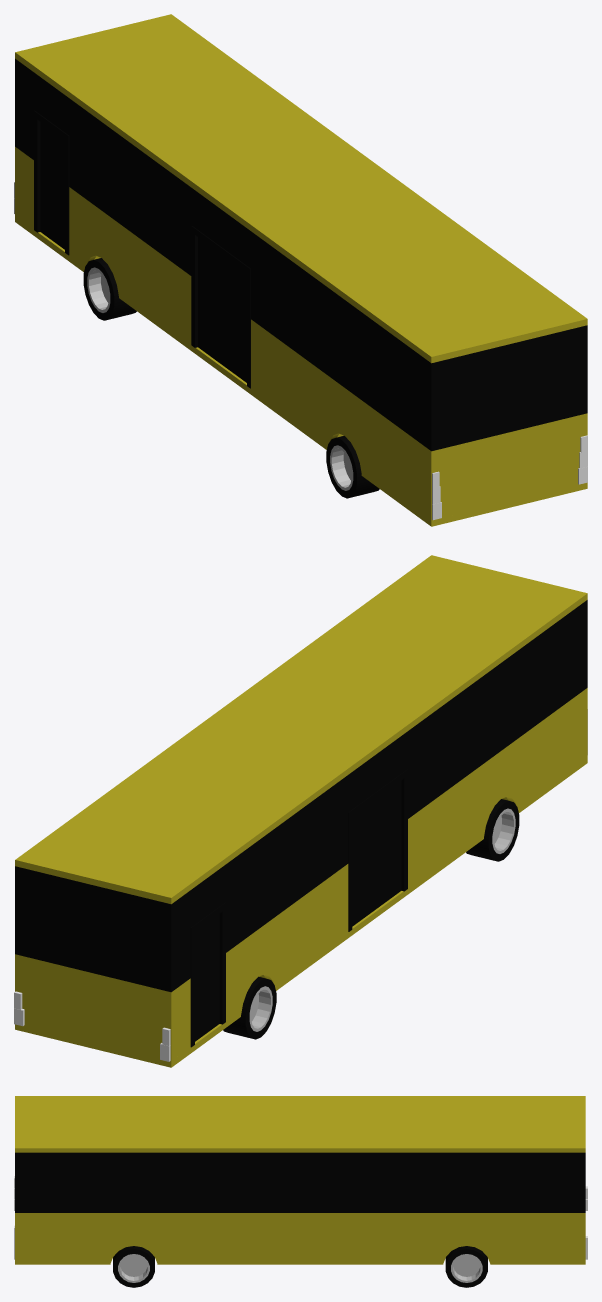
3 renders of one model, top to bottom at view 1: azimuth 30°, elevation 25°; view 2: azimuth 150°, elevation 25°; view 3: azimuth 270°, elevation 25°, orthographic. The views are drawn at different scales.
Visible parts, largest first — view 1: 車頂, 巴士底座, 車玻璃2, 車玻璃, 後門, 前門, 巴士輪胎001, 巴士輪胎003; view 2: 車頂, 巴士底座, 車玻璃2, 車玻璃, 後門, 前門, 巴士輪胎003, 巴士輪胎001; view 3: 車玻璃2, 車頂, 巴士底座, 巴士輪胎, 巴士輪胎002.
Part boxes in pixels (bbox=[...]): 車頂: bbox=[15, 14, 587, 363]; 巴士底座: bbox=[15, 147, 587, 526]; 車玻璃2: bbox=[15, 58, 587, 451]; 車玻璃: bbox=[35, 73, 250, 275]; 後門: bbox=[191, 226, 250, 388]; 前門: bbox=[34, 110, 69, 255]; 巴士輪胎001: bbox=[83, 258, 136, 320]; 巴士輪胎003: bbox=[326, 436, 379, 498]; 車頂: bbox=[15, 555, 587, 904]; 巴士底座: bbox=[15, 688, 587, 1067]; 車玻璃2: bbox=[15, 600, 587, 992]; 車玻璃: bbox=[191, 732, 406, 952]; 後門: bbox=[348, 769, 407, 931]; 前門: bbox=[190, 902, 225, 1047]; 巴士輪胎003: bbox=[466, 799, 519, 861]; 巴士輪胎001: bbox=[223, 976, 276, 1039]; 車玻璃2: bbox=[15, 1152, 585, 1212]; 車頂: bbox=[15, 1096, 585, 1152]; 巴士底座: bbox=[15, 1213, 585, 1264]; 巴士輪胎: bbox=[445, 1246, 487, 1287]; 巴士輪胎002: bbox=[113, 1246, 154, 1287].
Bounding box in the file's own units: 27 × 32.14 × 121.
Materials: 7 (1 with a texture image).
